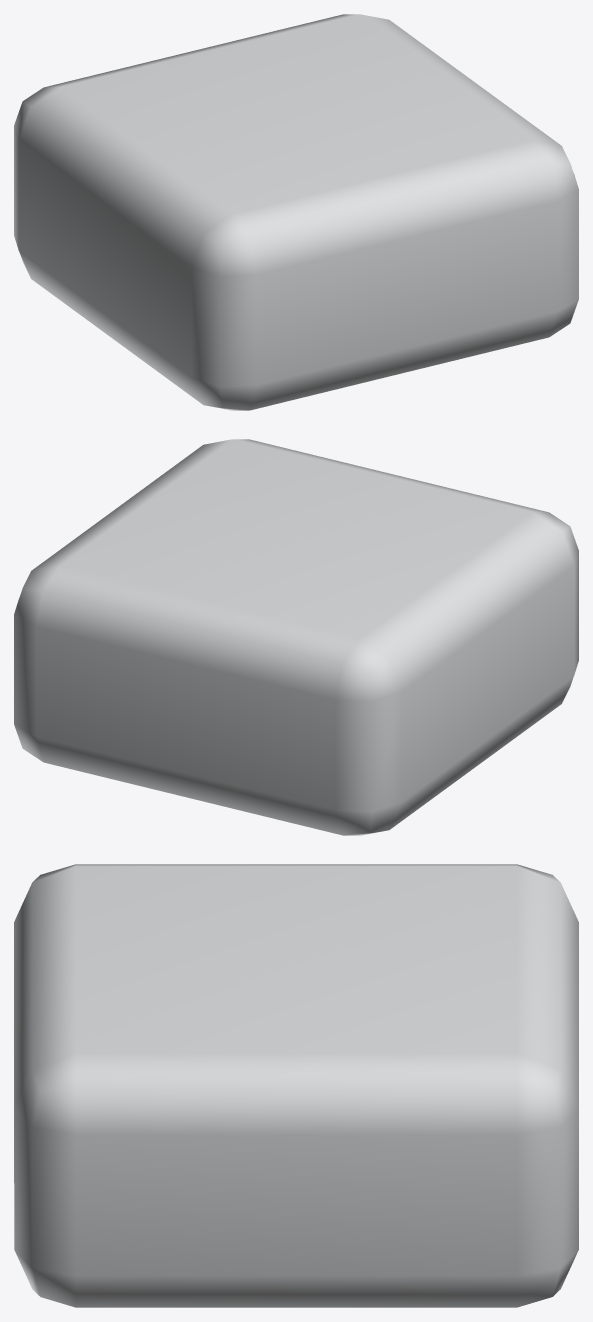
The model's file is SM_Cloud_02_A.fbx.
3 renders of one model, top to bottom at view 1: azimuth 30°, elevation 25°; view 2: azimuth 150°, elevation 25°; view 3: azimuth 270°, elevation 25°, orthographic. The views are drawn at different scales.
Parts seen in each view (by area): view 1: pCube789; view 2: pCube789; view 3: pCube789.
Boxes of the visible parts, x1,y1,x2,y2 form: pCube789: (14, 14, 578, 410); pCube789: (14, 439, 578, 835); pCube789: (14, 864, 578, 1307).
Bounding box in the file's own units: 447 × 220 × 446.
